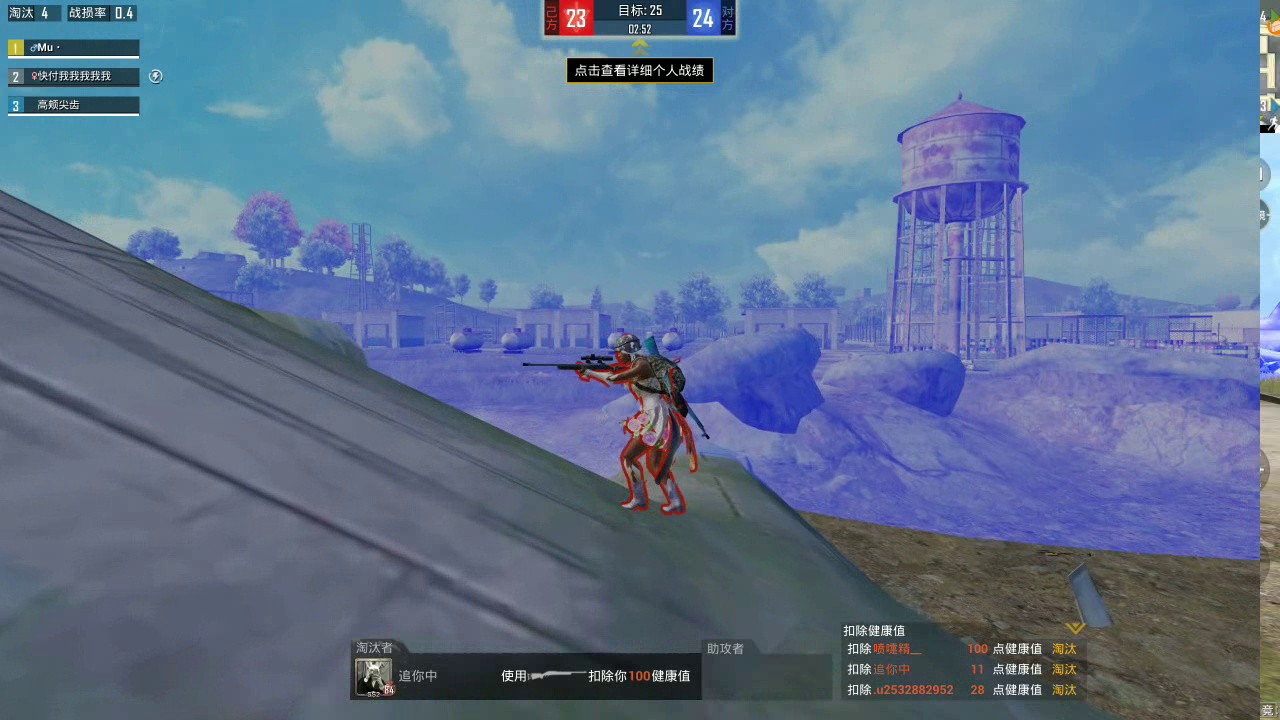enemy: (609, 330, 688, 520)
